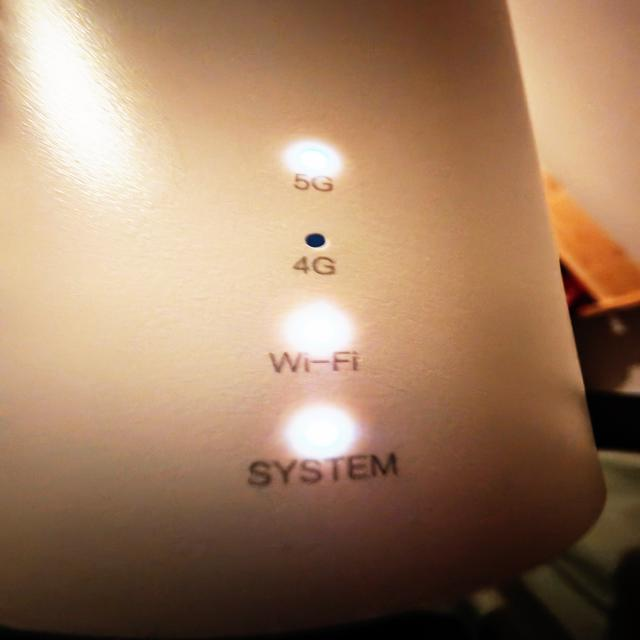modem: (0, 0, 600, 640)
off: (284, 220, 346, 264)
on: (260, 390, 375, 489), (253, 293, 387, 370), (275, 130, 341, 180)
